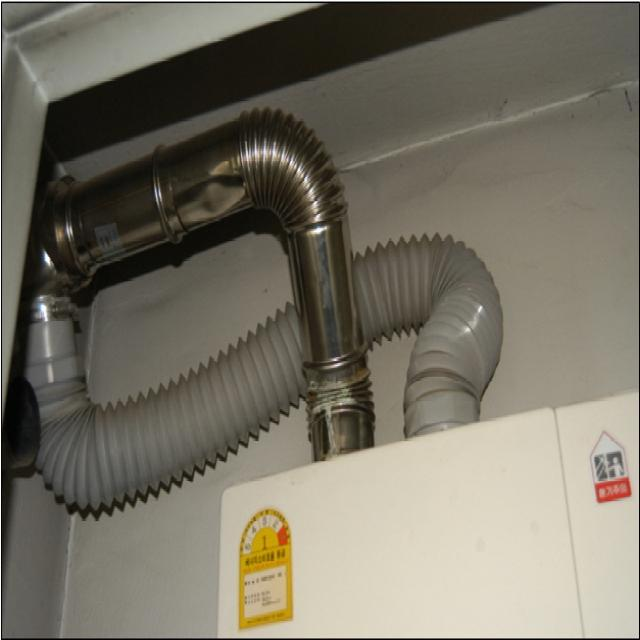Boiler: (208, 388, 640, 640)
